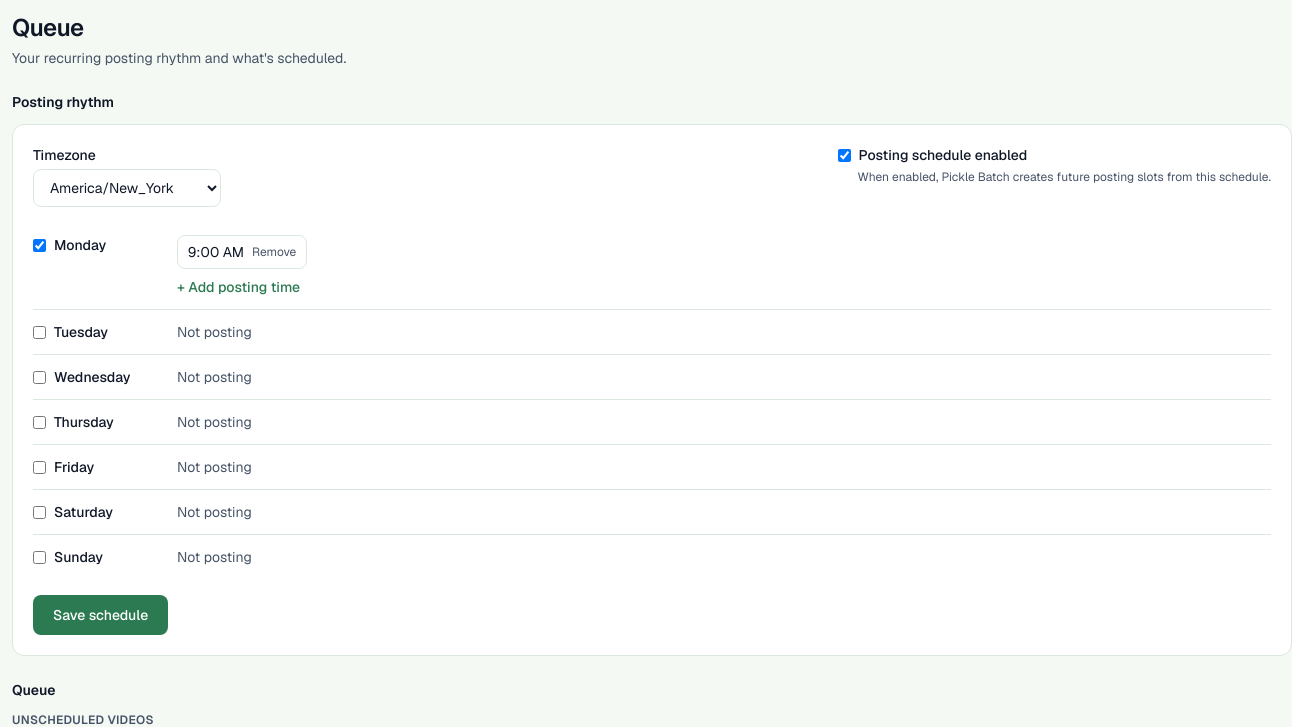
QueuePage — posting rhythm › adds a second time to an already-active day
Expected: the text "9:00 AM" is shown, [188, 242, 244, 262]
Click the button with aria-label "Add posting time for Monday" at (239, 287), box [177, 277, 300, 297]
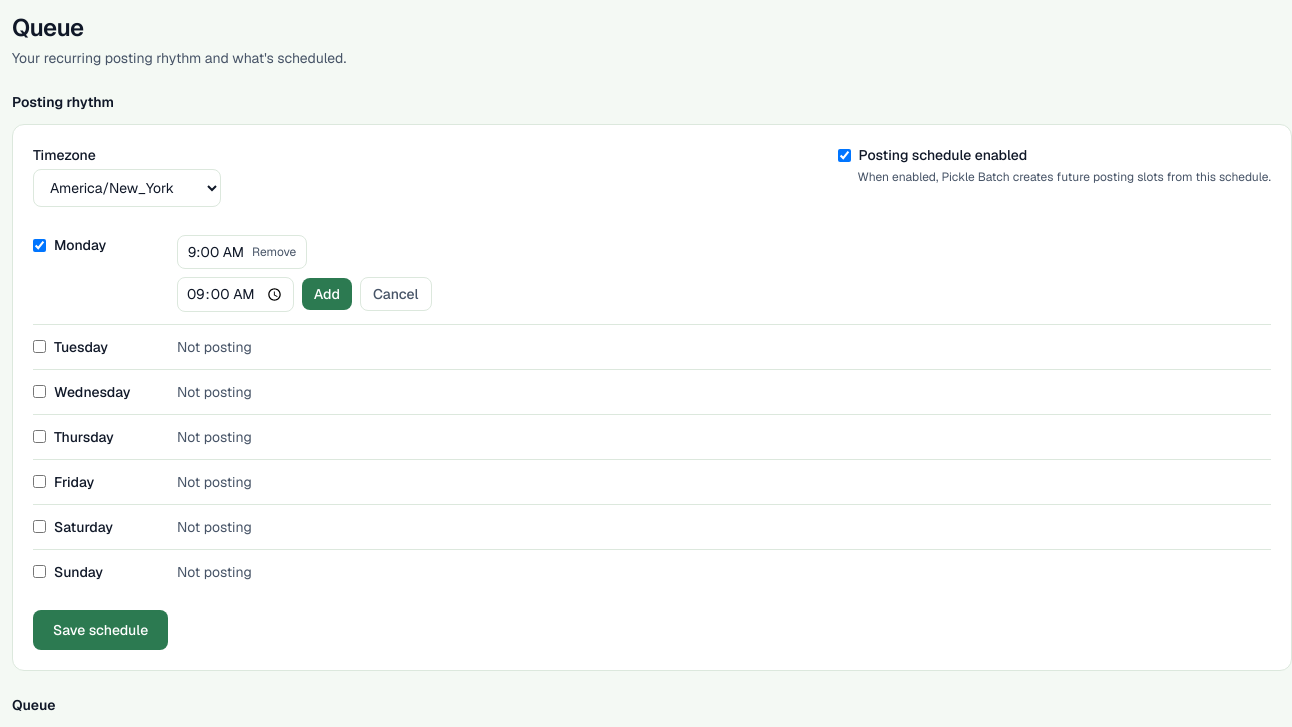
Clear the time field named "New time for Monday" at (235, 294), box [177, 277, 294, 312]
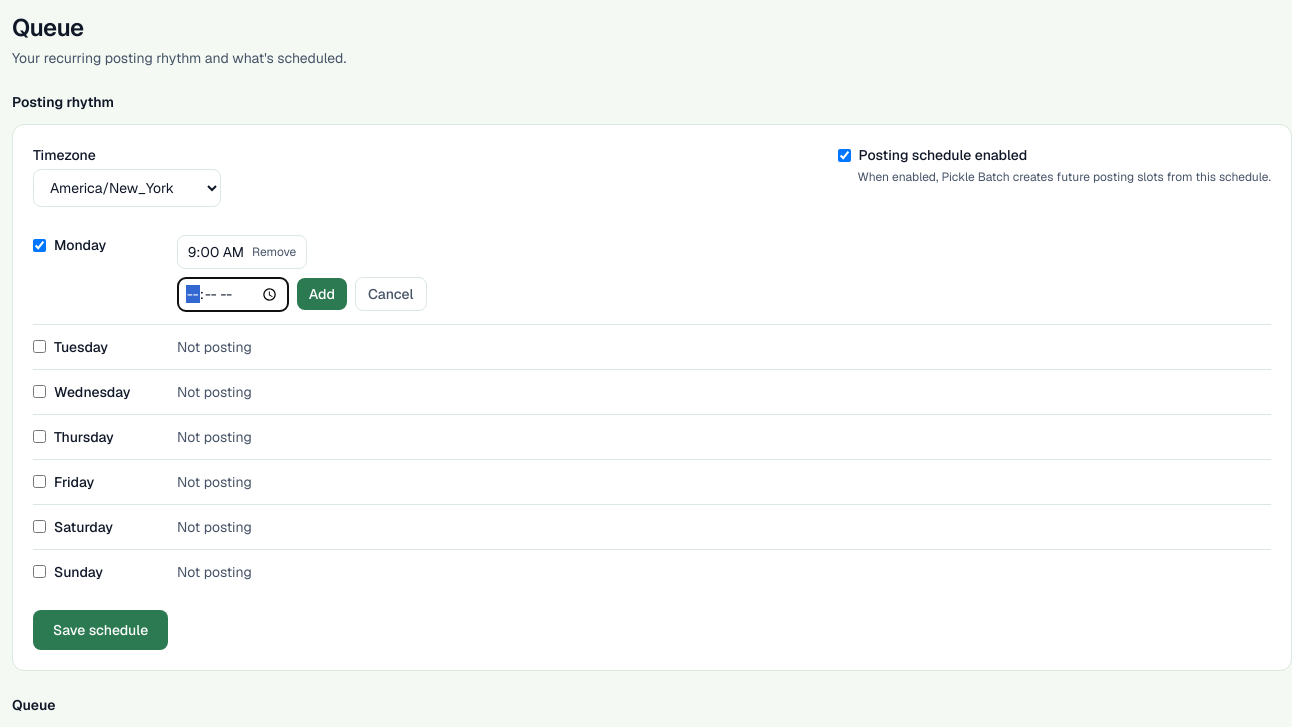
Type "18:00" into the time field named "New time for Monday" at (233, 294), box [177, 277, 289, 312]
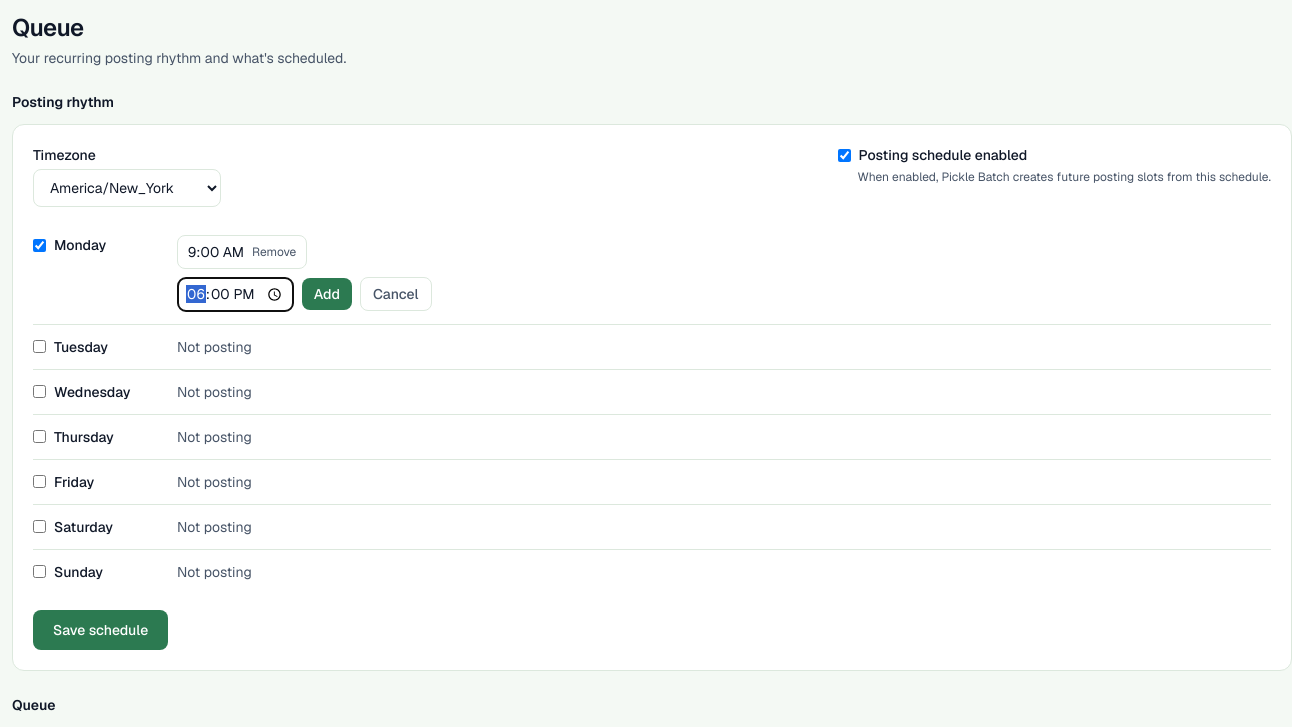
Click the button with aria-label "Add time to Monday" at (327, 294), box [302, 278, 352, 310]
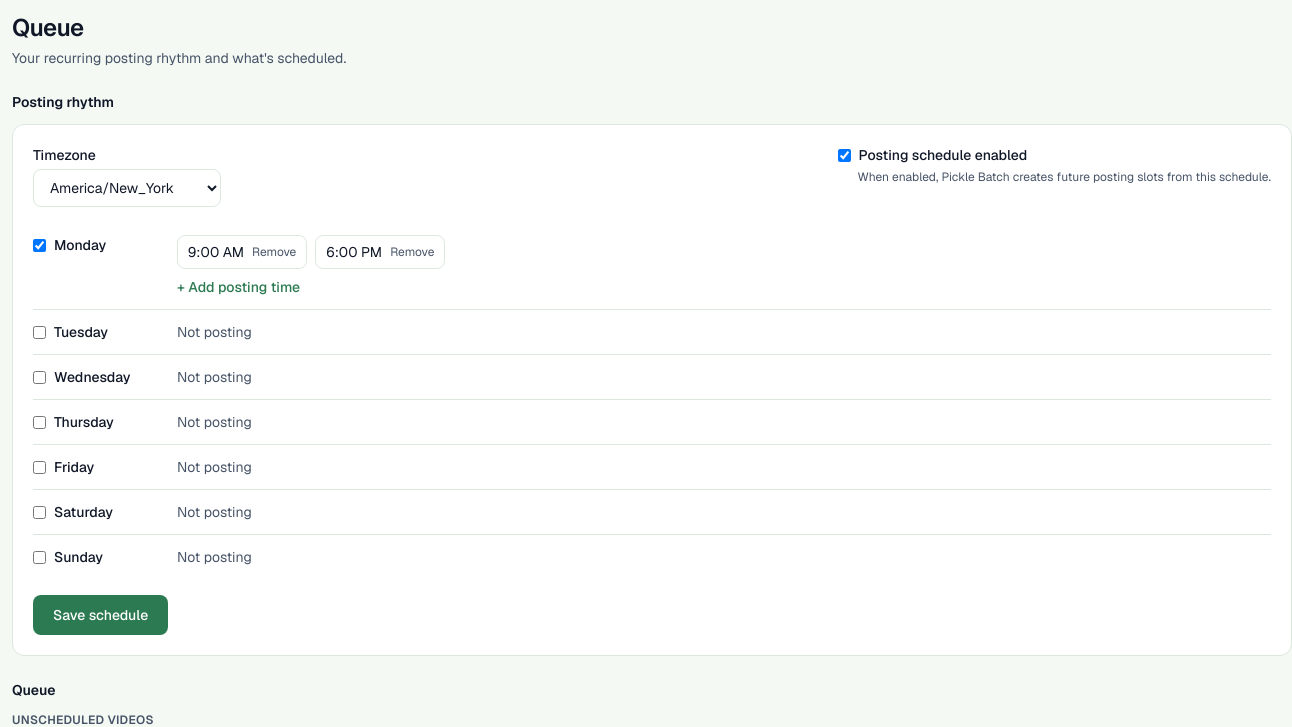
Expected: the text "9:00 AM" is shown, [188, 242, 244, 262]
Now the text "6:00 PM" is shown, box [326, 242, 382, 262]
